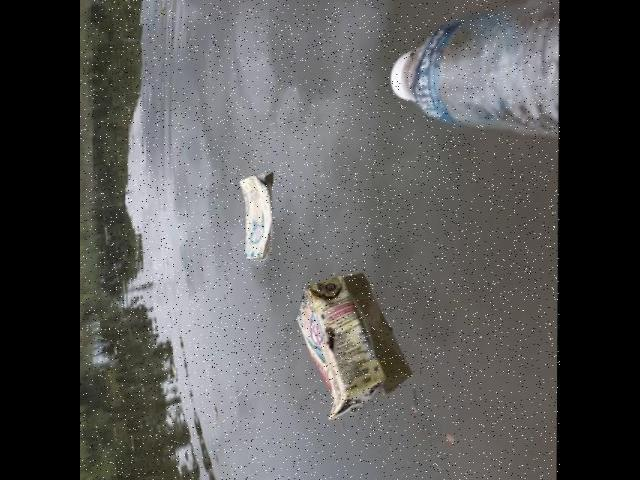Bottle: (382, 0, 560, 142)
Box: (294, 272, 391, 424)
Waste: (234, 170, 280, 266)
